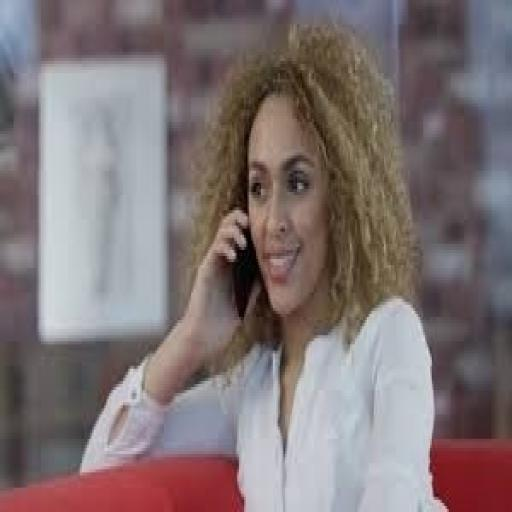calling: (78, 18, 450, 509)
